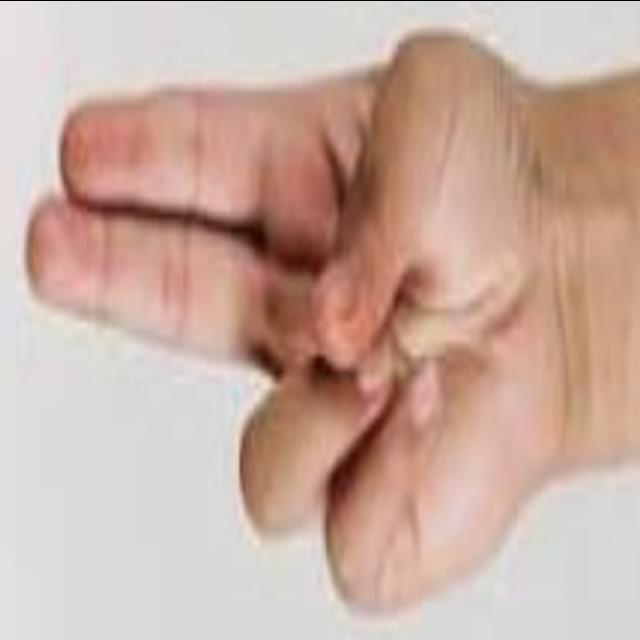U: (12, 20, 588, 632)
